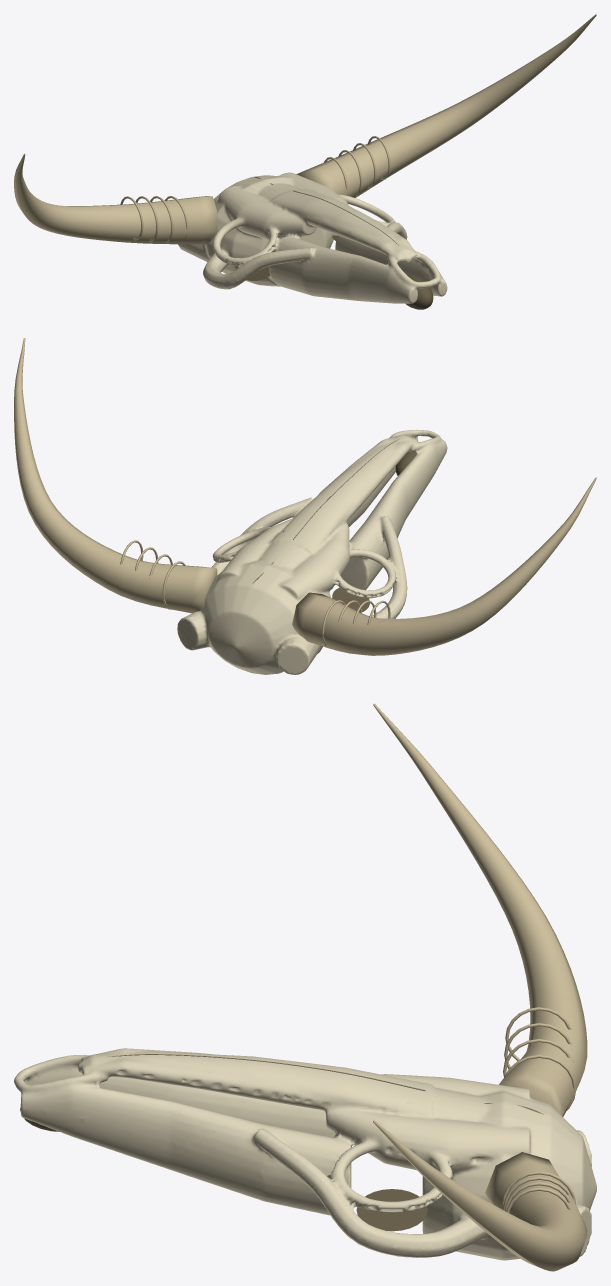
File: props_p6__p6_skull.glb
3 renders of one model, top to bottom at view 1: azimuth 30°, elevation 25°; view 2: azimuth 150°, elevation 25°; view 3: azimuth 270°, elevation 25°, orthographic. The views are drawn at different scales.
Parts seen in each view (by area): view 1: sculpted_deer_bone, horn_1, horn_-1, nasal_cavity; view 2: sculpted_deer_bone, horn_1, horn_-1; view 3: sculpted_deer_bone, horn_-1, horn_1, orbit_1_depth.
Boxes of the visible parts, x1,y1,x2,y2 form: sculpted_deer_bone: (178,172,447,303); horn_1: (296,14,596,197); horn_-1: (14,153,217,244); nasal_cavity: (405,274,433,309); sculpted_deer_bone: (177,429,447,674); horn_1: (14,338,217,613); horn_-1: (292,477,596,655); sculpted_deer_bone: (14,1048,596,1260); horn_-1: (373,703,587,1116); horn_1: (373,1120,587,1271); orbit_1_depth: (356,1189,427,1231).
Bounding box in the file's own units: 0.8619 × 0.3229 × 0.5077.
